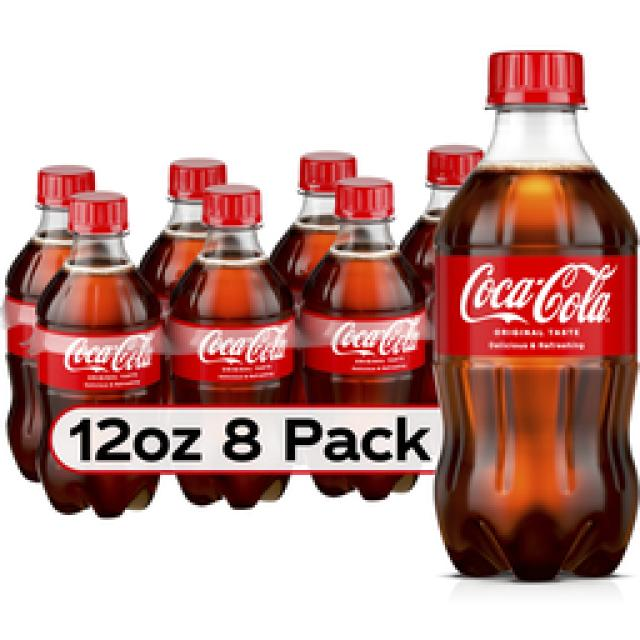plastic_soda_bottles: (432, 49, 634, 582), (170, 176, 296, 516), (305, 172, 432, 502), (38, 188, 156, 518), (7, 159, 100, 479), (398, 136, 491, 294), (142, 155, 220, 312), (271, 151, 356, 294)
